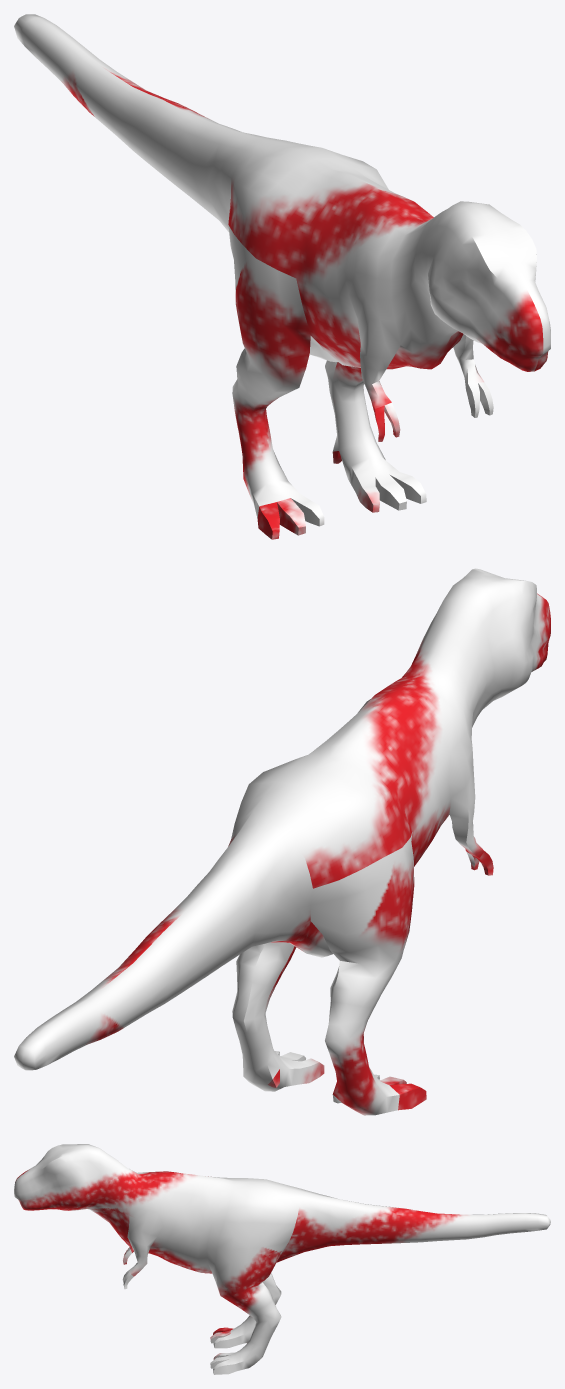
File: trex.fbx
3 views of the same model, one above another, from view 1: azimuth 30°, elevation 25°; view 2: azimuth 150°, elevation 25°; view 3: azimuth 270°, elevation 25° (orthographic). The views are drawn at different scales.
Parts seen in each view (by area): view 1: Trex1; view 2: Trex1; view 3: Trex1.
Boxes of the visible parts, left/top/right/bottom form: Trex1: left=14, top=14, right=550, bottom=539; Trex1: left=14, top=568, right=550, bottom=1115; Trex1: left=14, top=1144, right=550, bottom=1374.
Bounding box in the file's own units: 4.31 × 10.41 × 24.23.
1 material, 1 textured.
